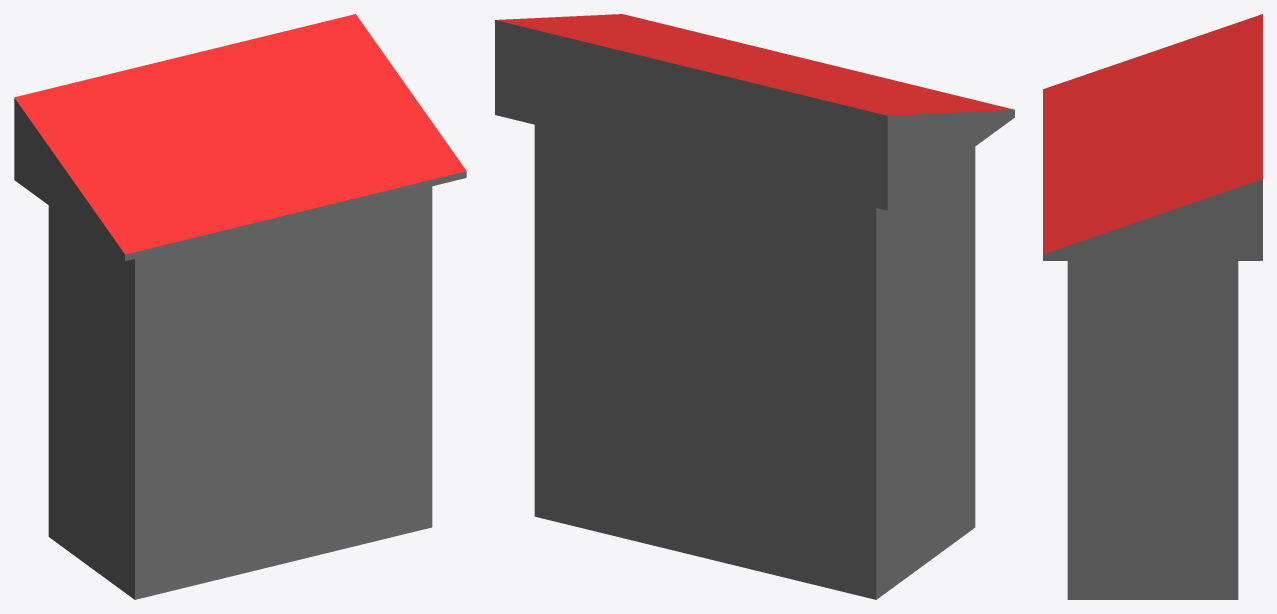
The model's file is pupitre.fbx.
3 views of the same model, side by side, from view 1: azimuth 30°, elevation 25°; view 2: azimuth 150°, elevation 25°; view 3: azimuth 270°, elevation 25° (orthographic). The views are drawn at different scales.
Visible parts, largest first — view 1: Boîte002; view 2: Boîte002; view 3: Boîte002.
Part boxes in pixels (x1,y1,x2,y2): Boîte002: (14,14,466,599); Boîte002: (495,14,1014,599); Boîte002: (1043,14,1262,599).
Bounding box in the file's own units: 16 × 19.5 × 9.
